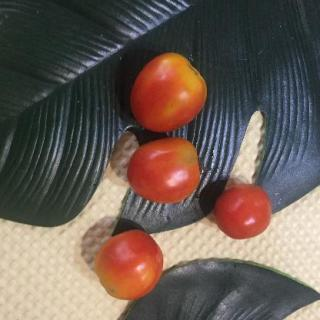Tomat: (125, 47, 213, 133), (123, 134, 211, 206), (83, 230, 173, 297), (215, 180, 272, 244)
